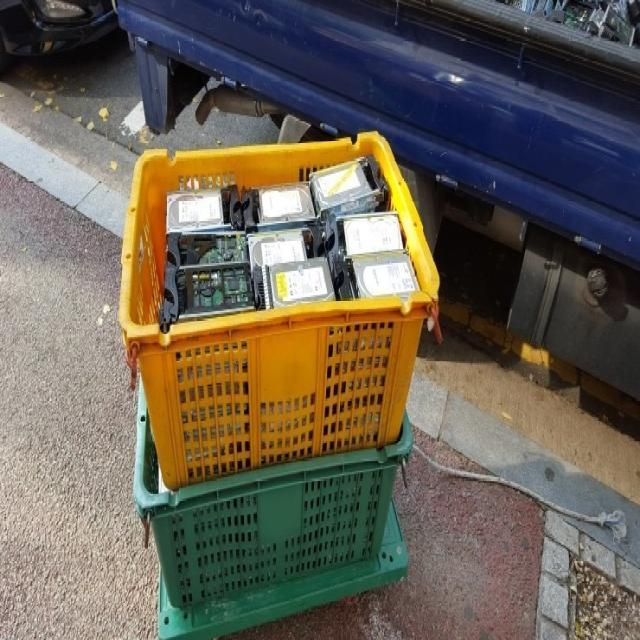basket: (85, 96, 472, 494), (128, 385, 415, 640)
